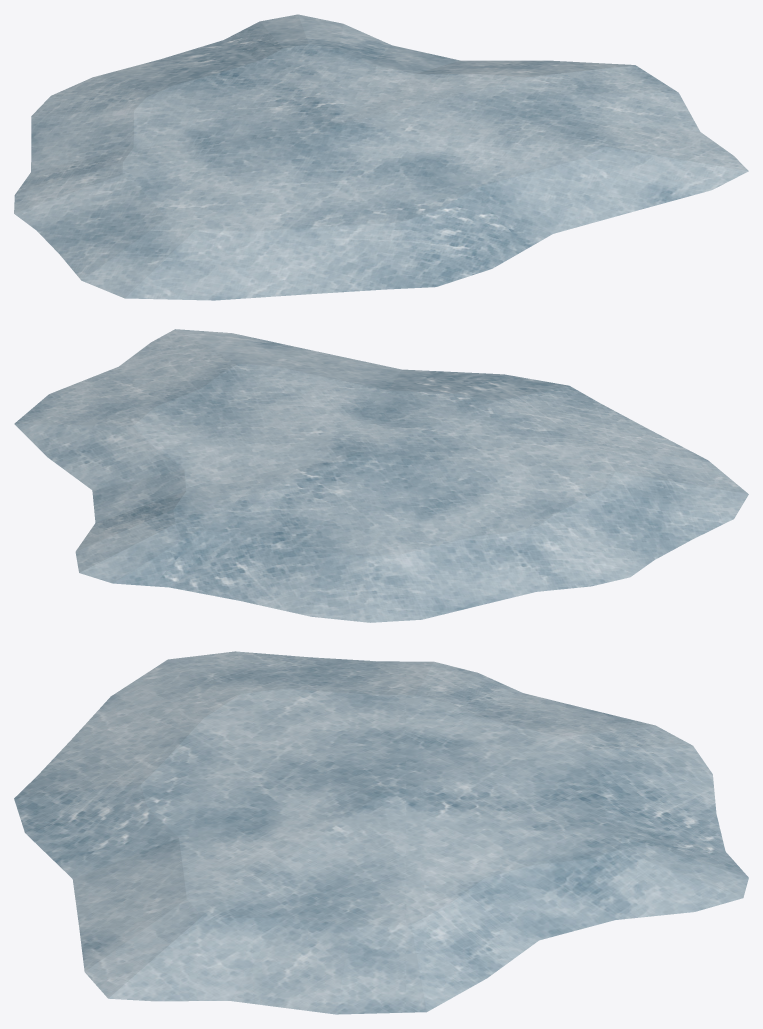
File: IceSlick1.fbx
3 views of the same model, one above another, from view 1: azimuth 30°, elevation 25°; view 2: azimuth 150°, elevation 25°; view 3: azimuth 270°, elevation 25° (orthographic). The views are drawn at different scales.
Parts seen in each view (by area): view 1: Circle#2; view 2: Circle#2; view 3: Circle#2.
Part boxes in pixels (box(x1,y1,x2,y2)): Circle#2: box(14, 14, 748, 300); Circle#2: box(14, 329, 748, 622); Circle#2: box(14, 651, 748, 1014).
Bounding box in the file's own units: 3.43 × 0.1622 × 2.94.
1 material, 1 textured.
